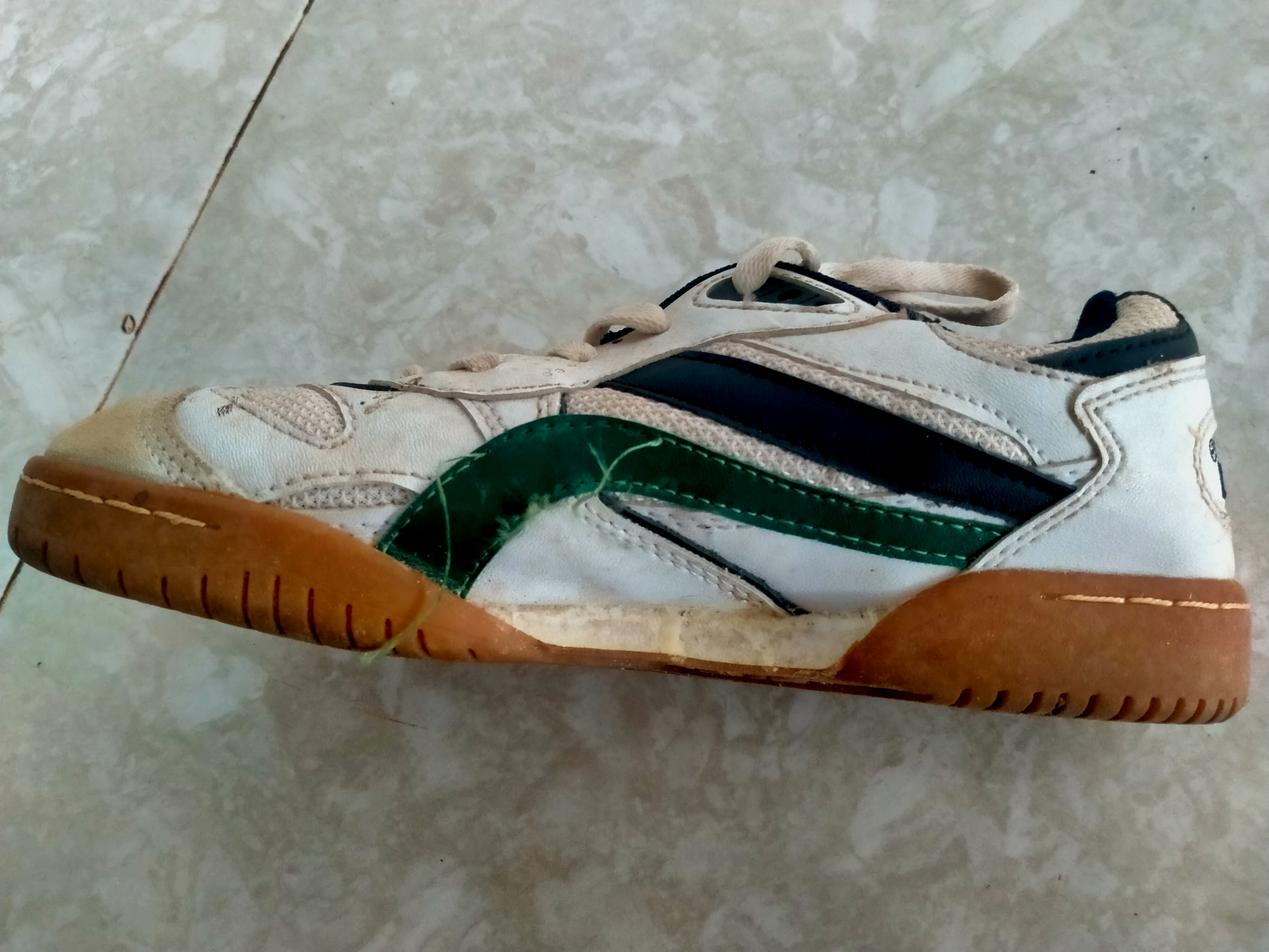broken: (460, 417, 670, 476), (493, 470, 632, 545)
